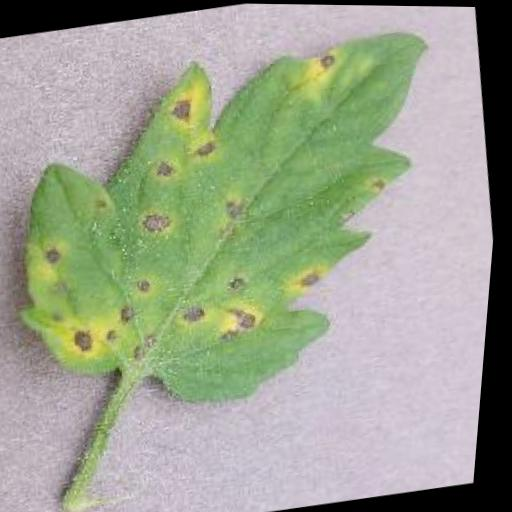Septoria: (0, 20, 481, 433)
